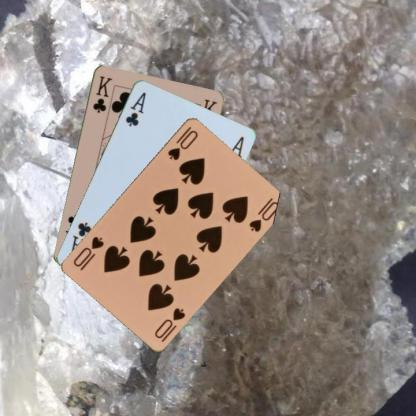10s: (166, 124, 200, 161), (152, 304, 186, 340)
Ac: (122, 89, 148, 128)
Kc: (90, 73, 113, 114)
